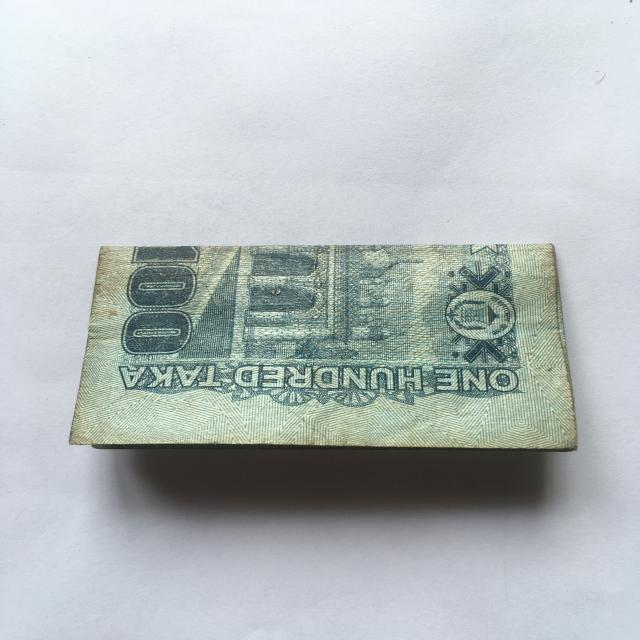Taka: (76, 235, 582, 454)
